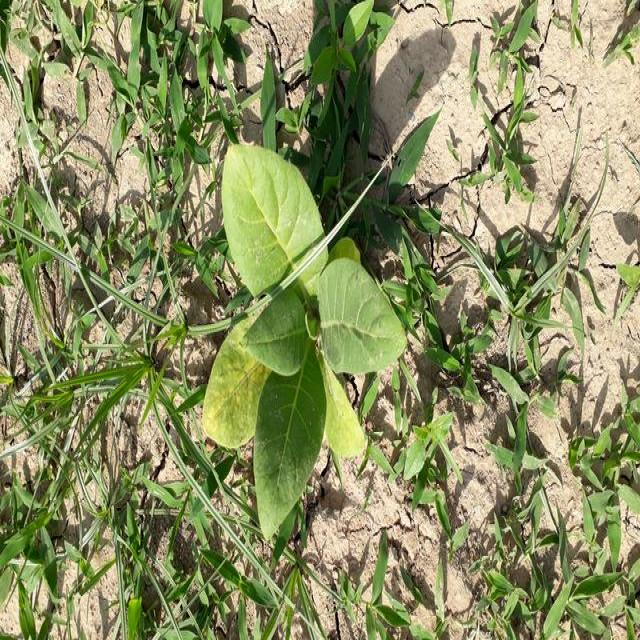crop: (204, 131, 413, 549)
